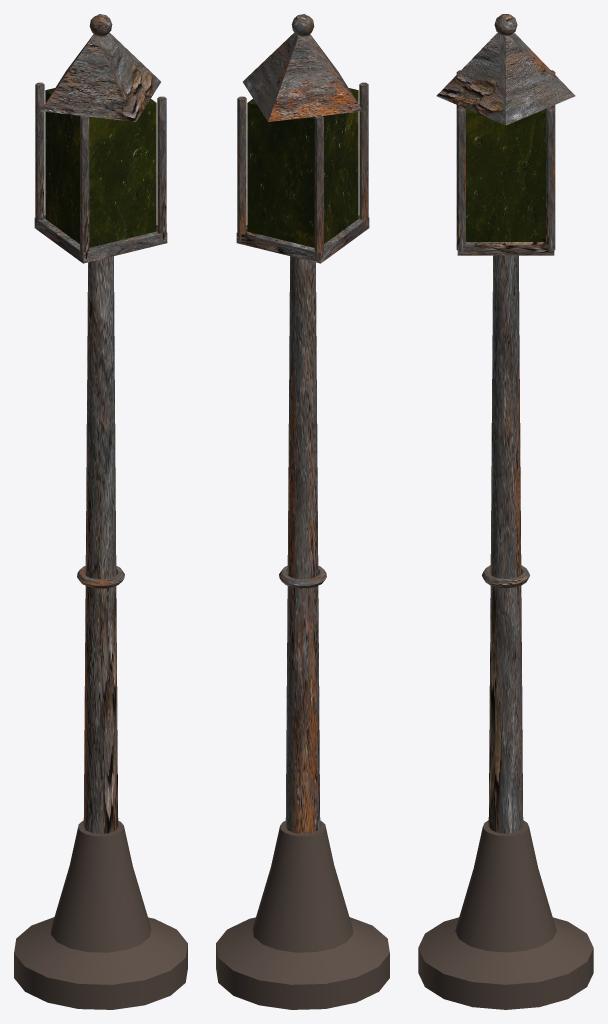
Rendered from street-lamp-v01.glb.
3 renders of one model, left to right at view 1: azimuth 30°, elevation 25°; view 2: azimuth 150°, elevation 25°; view 3: azimuth 270°, elevation 25°, orthographic.
Parts seen in each view (by area): view 1: street-lamp; view 2: street-lamp; view 3: street-lamp.
Boxes of the visible parts, x1=… form: street-lamp: x1=14, y1=14, x2=187, y2=1009; street-lamp: x1=216, y1=14, x2=389, y2=1009; street-lamp: x1=418, y1=14, x2=593, y2=1009.
Bounding box in the file's own units: 0.76 × 4.58 × 0.76.
Materials: 3 (3 with a texture image).
